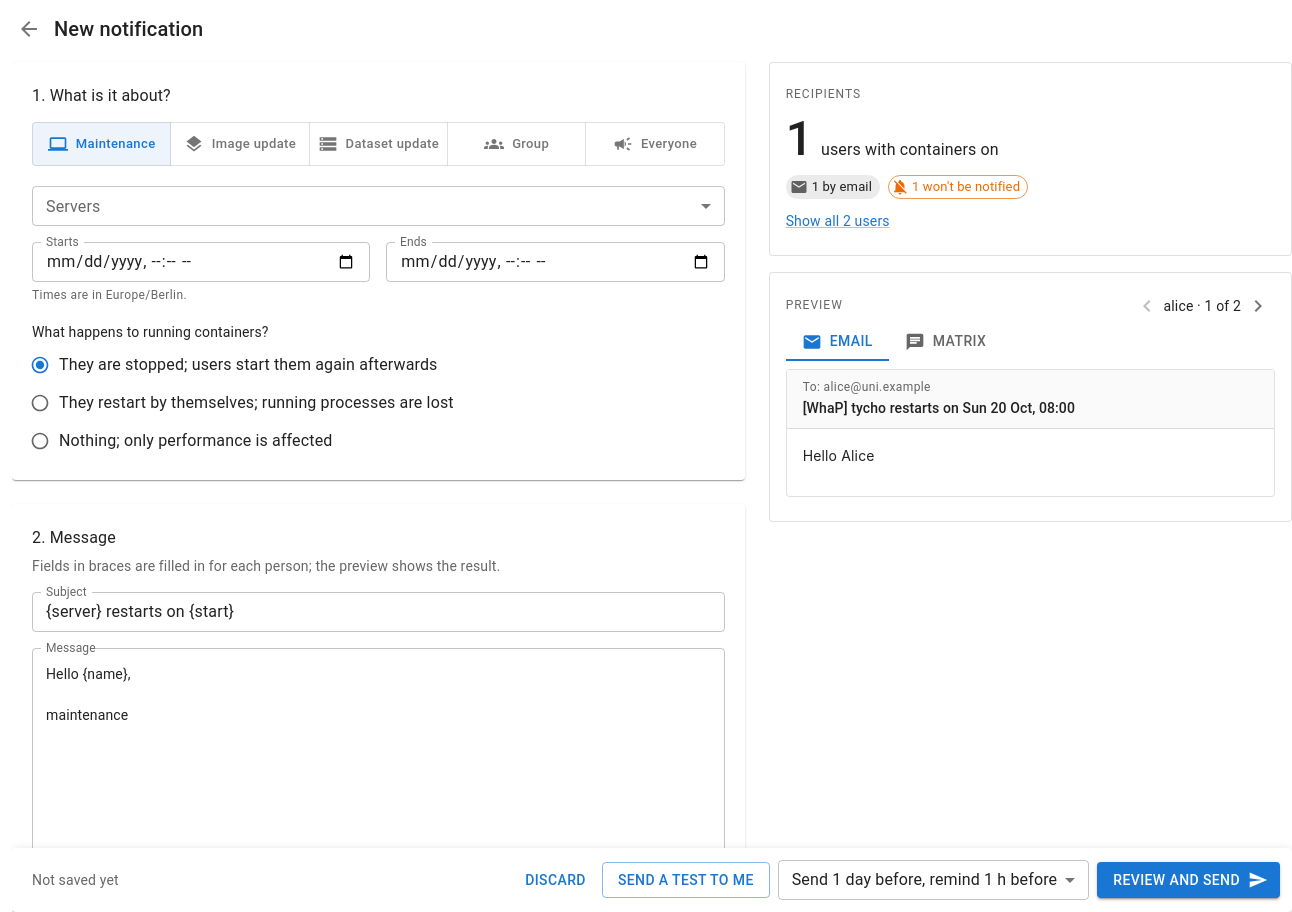
Test: a new draft saves itself once something is written
Step 1. Replace the text in the field with test id "composer-subject" with "Planned downtime" → (378, 612), box [32,592,725,632]
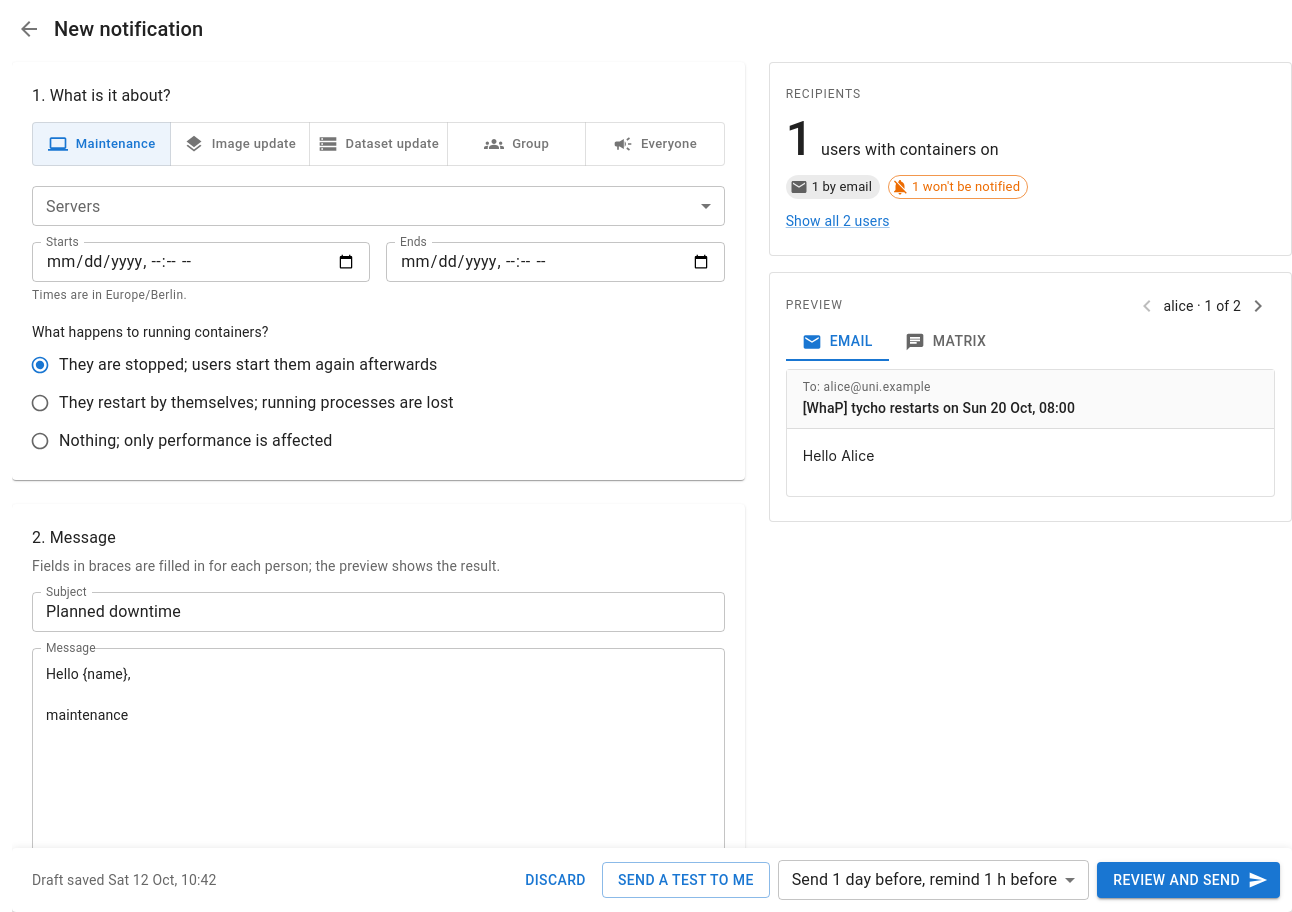
Check: the text with test id "composer-saved" shows "Draft saved", box [32,872,217,888]
